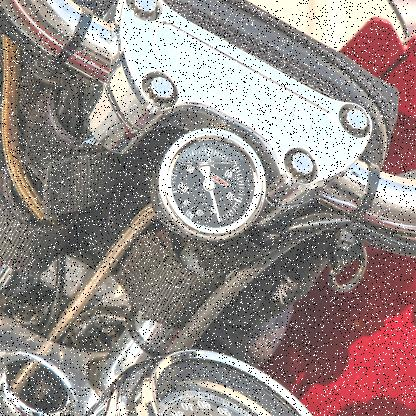needle: (209, 191, 222, 222)
